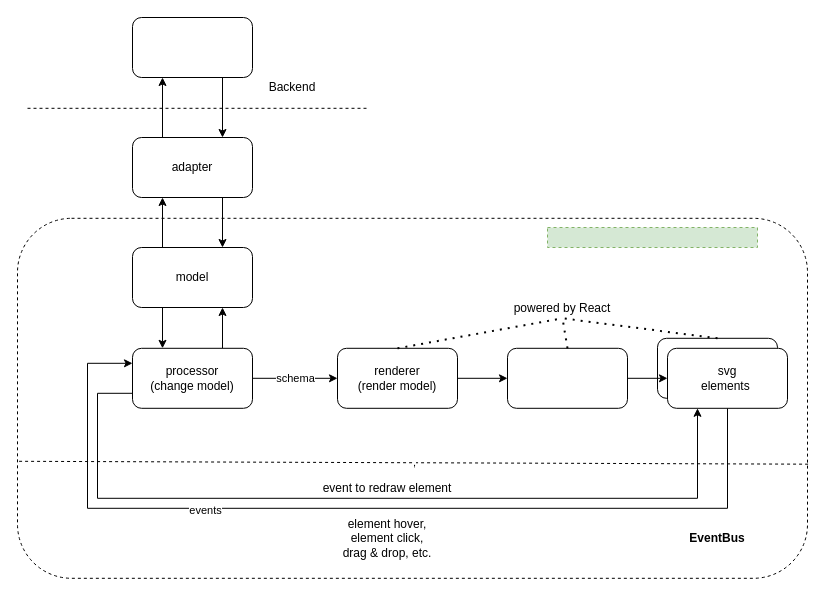
Image size: 827x596. Some labels were removed from this diagram. Here are the shapes that lost their labels. From the top down, the centre of each, then its label:
(x=192, y=47): XML, JSON
(x=652, y=237): schema - repo
(x=567, y=377): svg container
